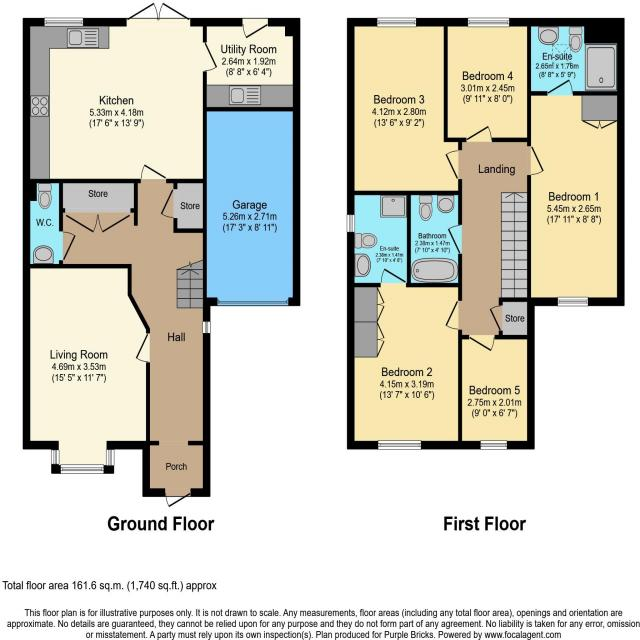DOOR: (442, 294, 462, 334), (443, 148, 463, 186), (139, 162, 172, 184), (133, 328, 151, 364), (546, 75, 575, 97), (527, 144, 546, 177), (463, 123, 495, 142), (163, 488, 193, 508), (446, 224, 463, 259), (469, 335, 496, 353)
DOUBLE DOOR: (125, 1, 191, 27)
ROOM: (22, 1, 220, 182), (23, 264, 150, 473), (527, 73, 626, 306), (347, 18, 463, 194), (347, 283, 462, 449), (443, 17, 531, 143), (458, 334, 535, 450)
WINDOW: (376, 438, 423, 452), (59, 463, 105, 476), (467, 17, 511, 29), (375, 16, 418, 28), (44, 16, 84, 28), (557, 296, 589, 308), (479, 439, 508, 450), (346, 214, 356, 234), (50, 447, 61, 465), (105, 449, 115, 467)
